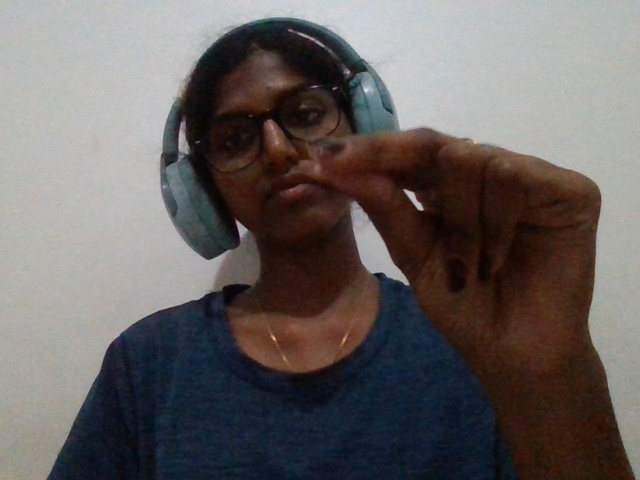No: (274, 109, 640, 465)
